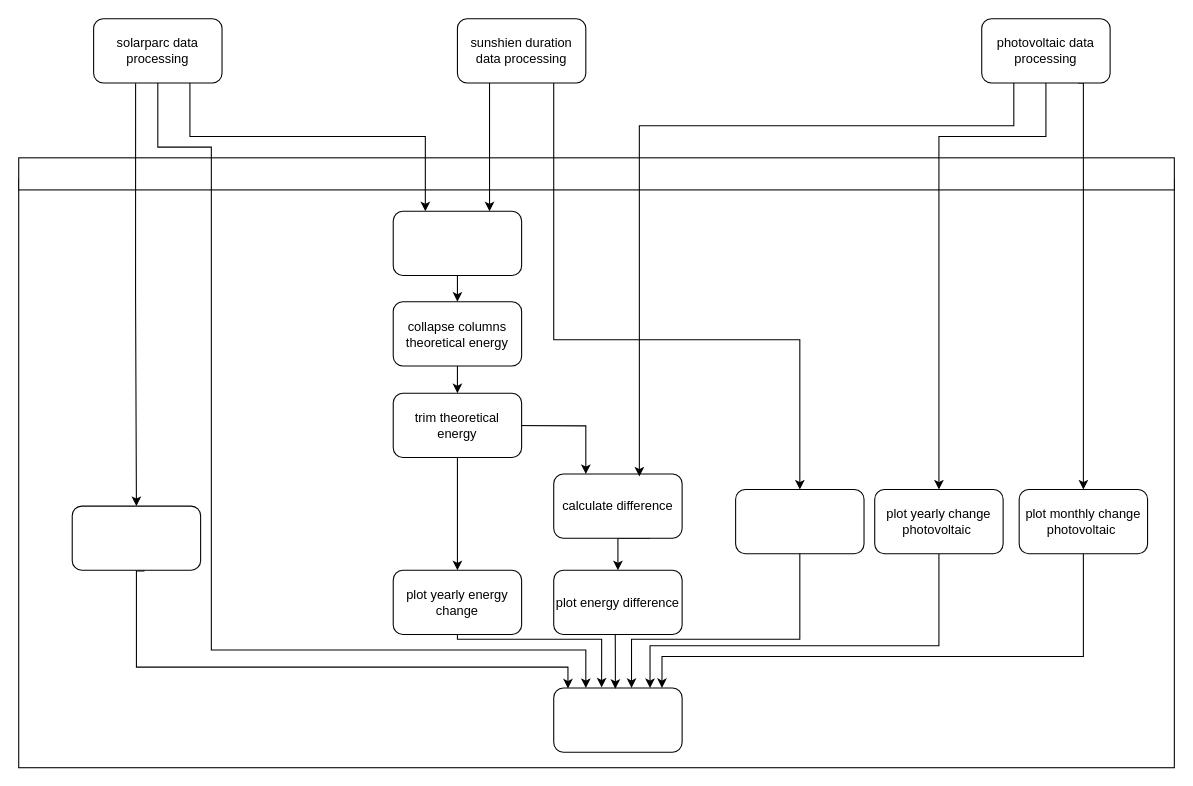
This 1193x786 diagram has some shape labels left out. The box of each missing label's shape, as (x1, y1, x2, y2) in pixels:
analysis: (18, 157, 1174, 190)
calculate theoretical energy: (392, 210, 522, 276)
generate report: (553, 687, 682, 752)
plot solarparc map: (71, 505, 201, 570)
plot yearly change sunshine: (735, 488, 864, 554)
